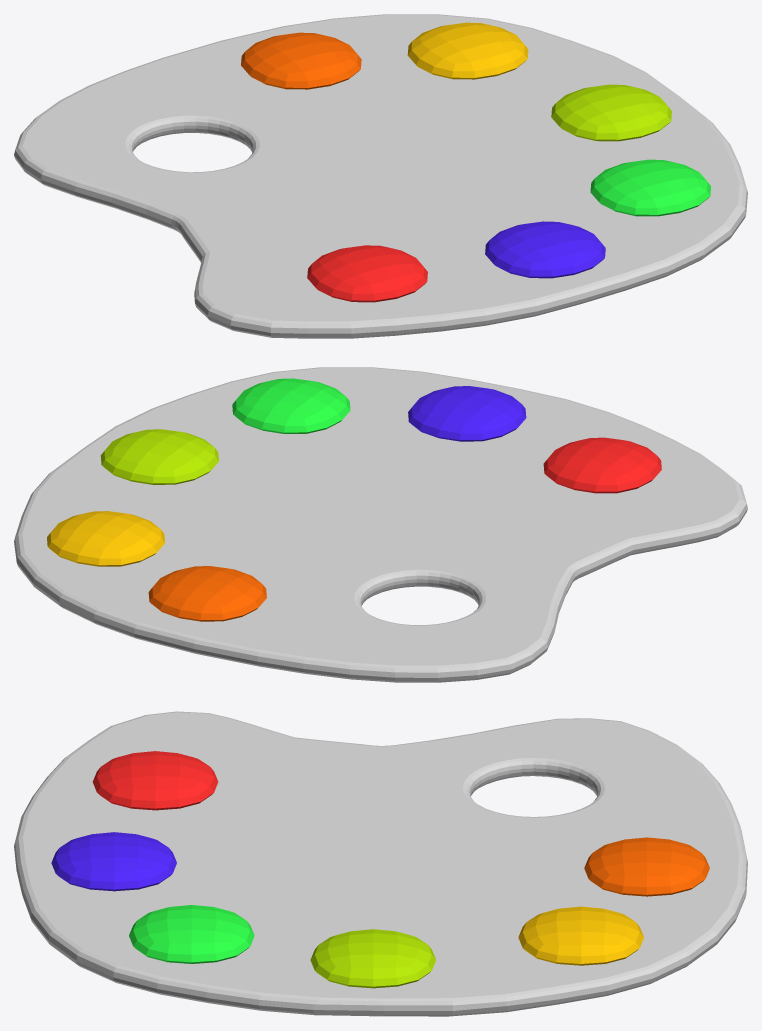
Rendered from palette.fbx.
The picture shows the model from 3 angles, top to bottom: view 1: azimuth 30°, elevation 25°; view 2: azimuth 150°, elevation 25°; view 3: azimuth 270°, elevation 25°; orthographic projection. The views are drawn at different scales.
Visible parts, largest first — view 1: Cube.005, Cube.007, Cube.003, Cube.002, Cube.004, Cube.006, Cube.001; view 2: Cube.005, Cube.007, Cube.003, Cube.006, Cube.002, Cube.001, Cube.004; view 3: Cube.005, Cube.007, Cube.002, Cube.004, Cube.001, Cube.003, Cube.006.
Boxes of the visible parts, left/top/right/bottom form: Cube.005: left=14, top=14, right=747, bottom=338; Cube.007: left=307, top=245, right=427, bottom=302; Cube.003: left=241, top=32, right=361, bottom=89; Cube.002: left=407, top=22, right=528, bottom=79; Cube.004: left=590, top=159, right=711, bottom=216; Cube.006: left=485, top=221, right=605, bottom=278; Cube.001: left=551, top=84, right=671, bottom=141; Cube.005: left=14, top=367, right=747, bottom=682; Cube.007: left=543, top=437, right=661, bottom=493; Cube.003: left=148, top=566, right=266, bottom=621; Cube.006: left=408, top=386, right=526, bottom=441; Cube.002: left=47, top=511, right=164, bottom=566; Cube.001: left=100, top=429, right=218, bottom=484; Cube.004: left=232, top=378, right=350, bottom=433; Cube.005: left=14, top=711, right=747, bottom=1016; Cube.007: left=92, top=751, right=218, bottom=810; Cube.002: left=518, top=906, right=643, bottom=965; Cube.004: left=129, top=905, right=254, bottom=963; Cube.001: left=310, top=929, right=435, bottom=988; Cube.003: left=584, top=837, right=709, bottom=896; Cube.006: left=51, top=832, right=176, bottom=891.
Size of the model in its own units: 27.91 by 1.69 by 29.51.
